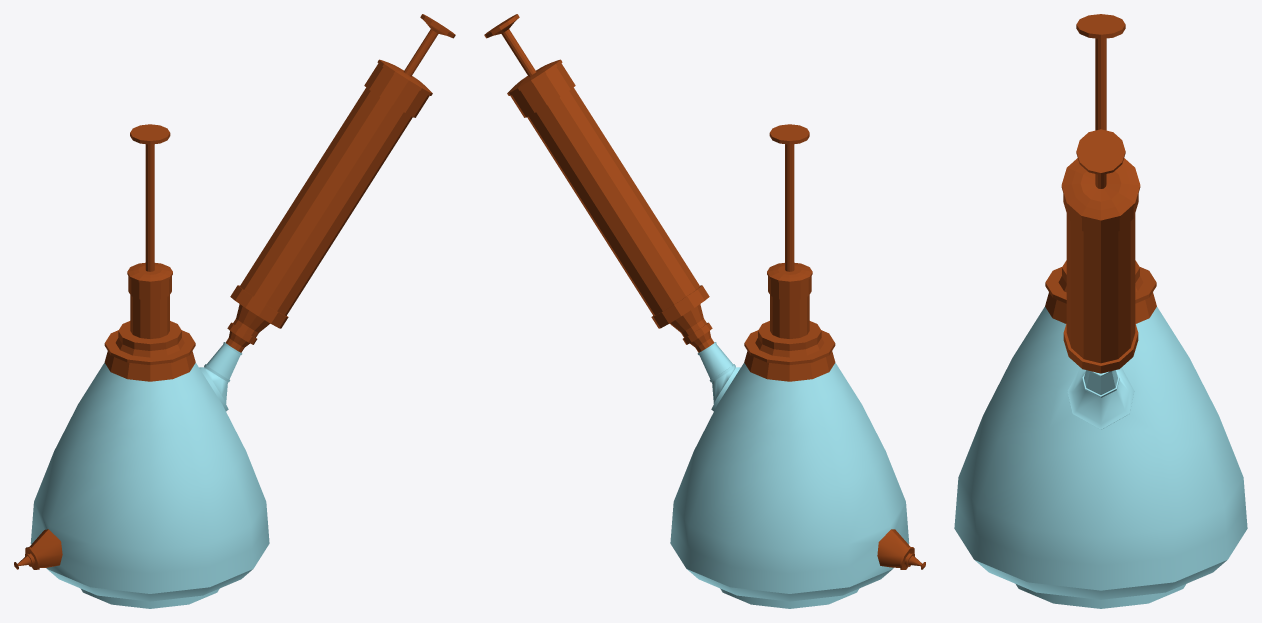
File: PRP_NURSE_TOOL_04.FBX
3 views of the same model, side by side, from view 1: azimuth 30°, elevation 25°; view 2: azimuth 150°, elevation 25°; view 3: azimuth 270°, elevation 25° (orthographic). The views are drawn at different scales.
Parts seen in each view (by area): view 1: PRP_NURSE_TOOL_04; view 2: PRP_NURSE_TOOL_04; view 3: PRP_NURSE_TOOL_04.
Part boxes in pixels (<box>): PRP_NURSE_TOOL_04: <box>14,14,455,608</box>; PRP_NURSE_TOOL_04: <box>484,14,925,608</box>; PRP_NURSE_TOOL_04: <box>954,14,1247,608</box>.
Size of the model in its own units: 21.16 by 22.75 by 10.
